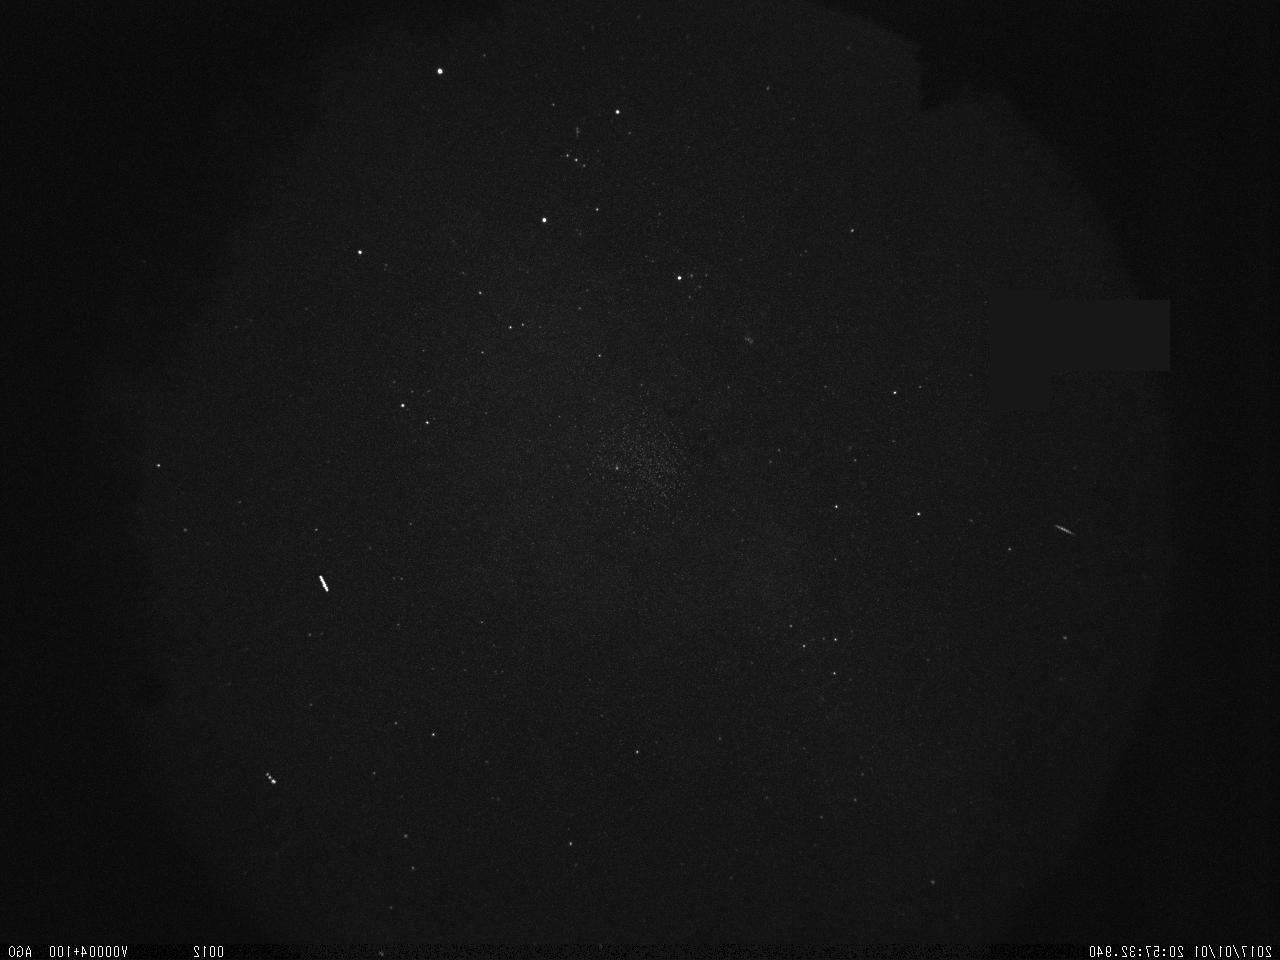satelite: (254, 762, 286, 793), (308, 570, 337, 598)
